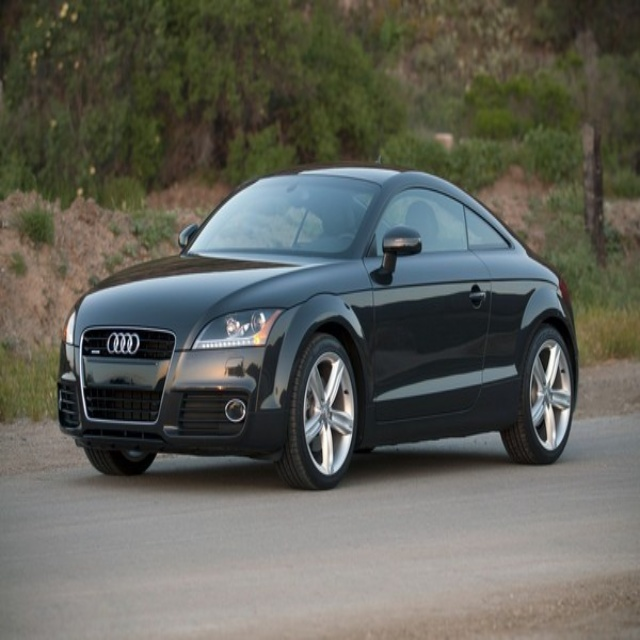Car: (54, 159, 579, 494)
